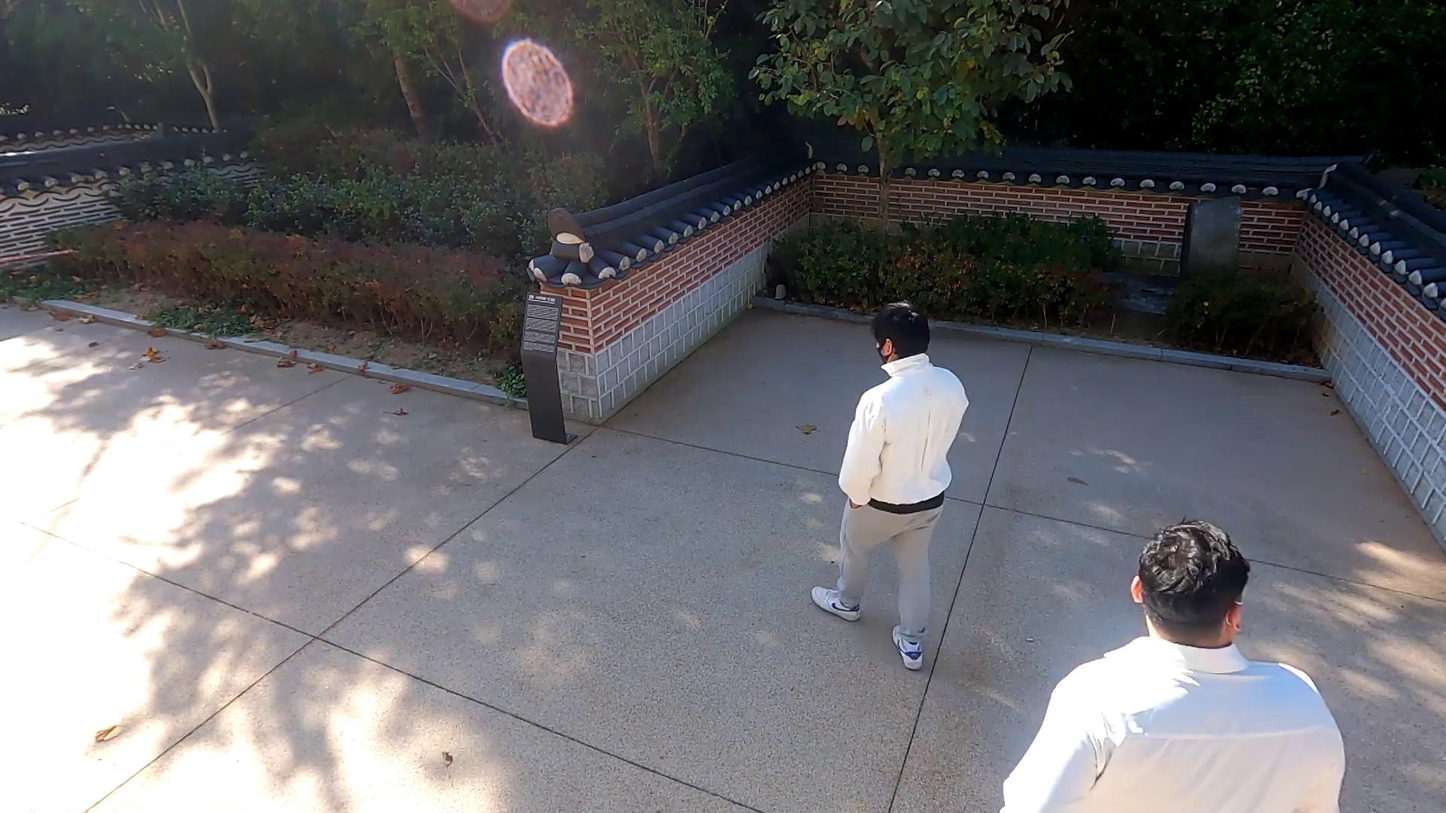person: (970, 505, 1386, 813), (807, 289, 979, 690)
